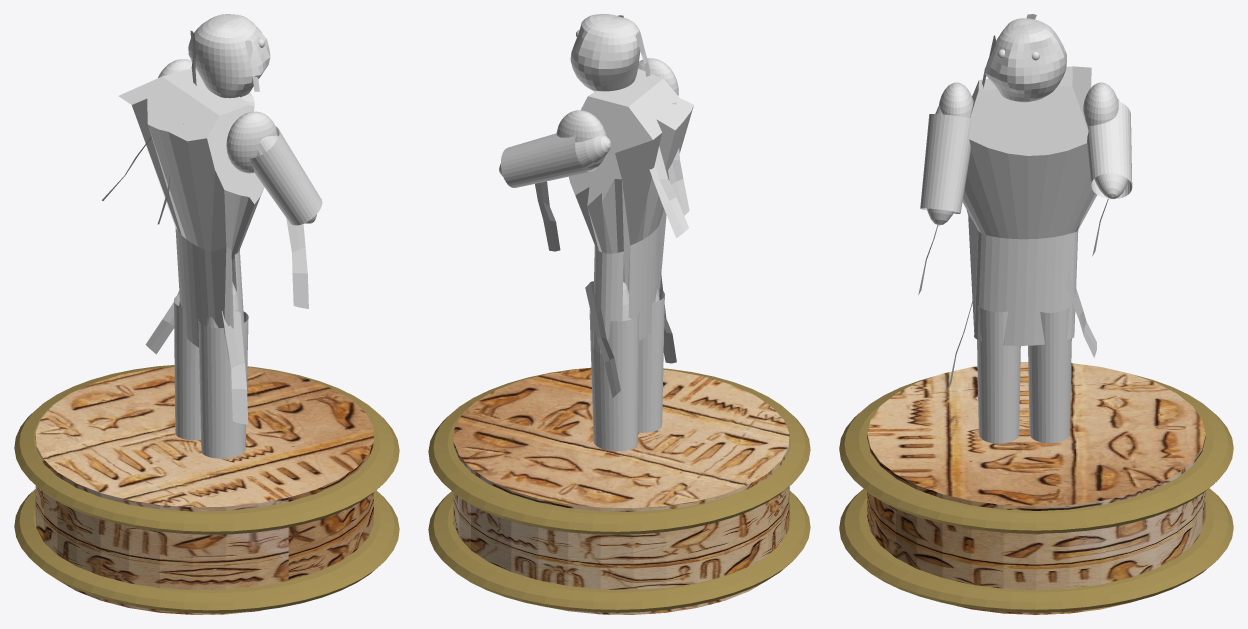
File: mumy.fbx
3 renders of one model, left to right at view 1: azimuth 30°, elevation 25°; view 2: azimuth 150°, elevation 25°; view 3: azimuth 270°, elevation 25°, orthographic.
Visible parts, largest first — view 1: Cylinder, Cone, Torus.001, Torus, Sphere, Sphere.006, Sphere.002, Sphere.001, Sphere.004, Grid.002, Grid.001, Grid.003; view 2: Cylinder, Cone, Torus.001, Torus, Sphere.001, Sphere.006, Sphere.003, Sphere, Grid.004, Sphere.005, Grid.003, Grid (+2 smaller); view 3: Cylinder, Cone, Torus.001, Torus, Sphere.006, Sphere, Sphere.001, Sphere.002, Sphere.003, Sphere.005, Sphere.004, Grid.003.
Part boxes in pixels (x1,y1,x2,y2): Cylinder: [35, 366, 373, 614]; Cone: [118, 68, 264, 359]; Torus.001: [14, 365, 399, 534]; Torus: [14, 489, 399, 613]; Sphere: [198, 282, 248, 458]; Sphere.006: [188, 14, 270, 98]; Sphere.002: [250, 126, 322, 225]; Sphere.001: [174, 294, 200, 440]; Sphere.004: [226, 111, 277, 173]; Grid.002: [222, 311, 248, 424]; Grid.001: [286, 218, 308, 308]; Grid.003: [145, 291, 179, 354]; Cylinder: [453, 368, 789, 614]; Cone: [569, 68, 693, 353]; Torus.001: [428, 367, 810, 534]; Torus: [428, 491, 810, 612]; Sphere.001: [589, 282, 639, 451]; Sphere.006: [570, 14, 640, 91]; Sphere.003: [499, 133, 610, 187]; Sphere: [638, 288, 664, 432]; Grid.004: [649, 146, 688, 237]; Sphere.005: [556, 110, 606, 170]; Grid.003: [585, 281, 620, 397]; Grid: [535, 181, 560, 251]; Cylinder: [867, 362, 1205, 614]; Cone: [962, 66, 1096, 345]; Torus.001: [839, 375, 1233, 533]; Torus: [839, 488, 1233, 612]; Sphere.006: [984, 18, 1066, 102]; Sphere: [977, 305, 1020, 443]; Sphere.001: [1028, 307, 1071, 443]; Sphere.002: [920, 106, 971, 225]; Sphere.003: [1087, 98, 1132, 199]; Sphere.005: [1083, 82, 1118, 126]; Sphere.004: [939, 82, 973, 117]; Grid.003: [1066, 272, 1096, 357].
Size of the model in its own units: 157 by 235 by 160.
